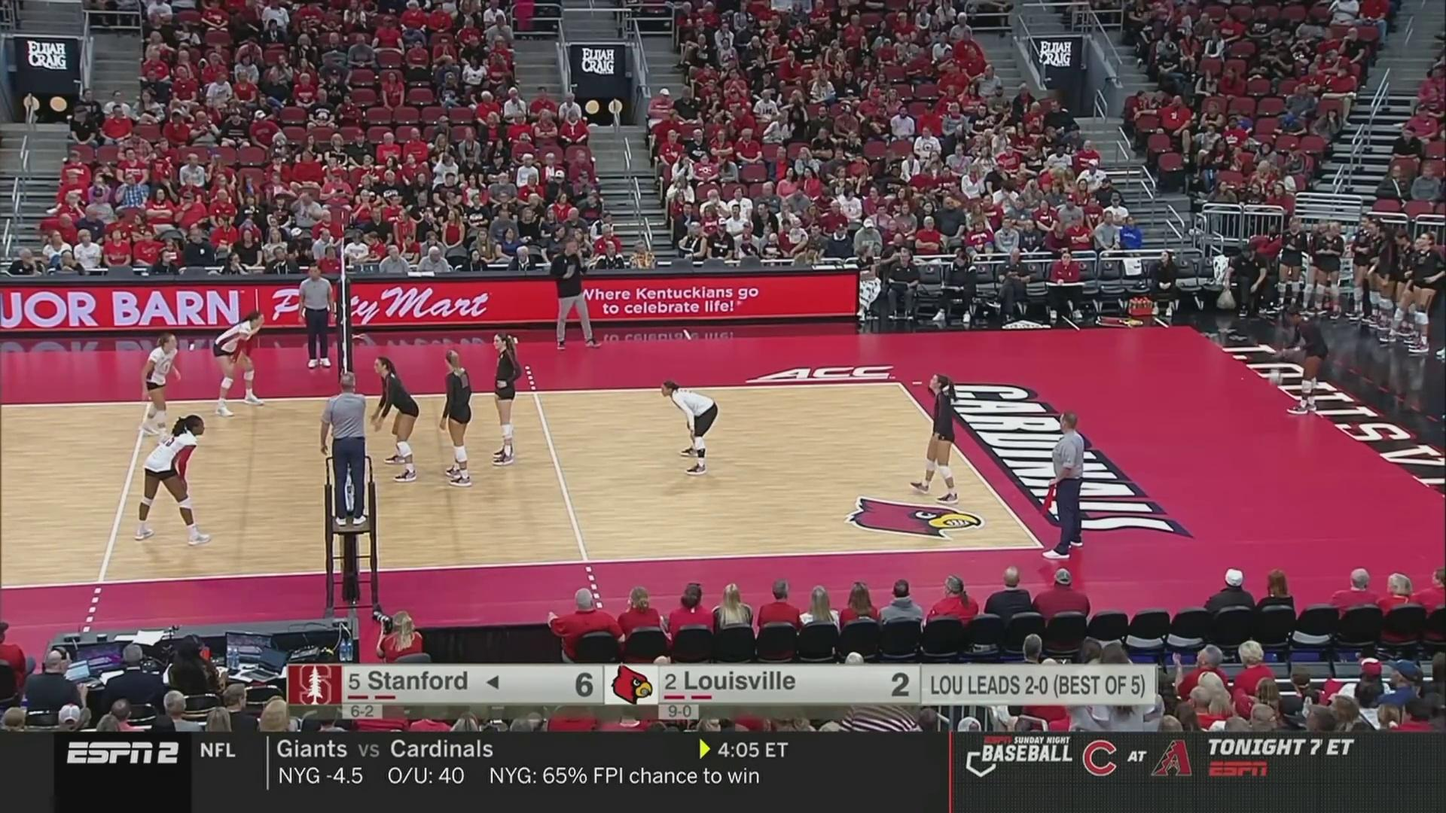player: (133, 417, 208, 543), (913, 375, 961, 502), (373, 357, 420, 480), (661, 380, 718, 475), (212, 314, 266, 414), (437, 351, 475, 485), (1283, 304, 1329, 413), (141, 333, 182, 442), (492, 333, 521, 468)
refree: (319, 377, 371, 522), (1044, 410, 1086, 558), (297, 266, 334, 367)
